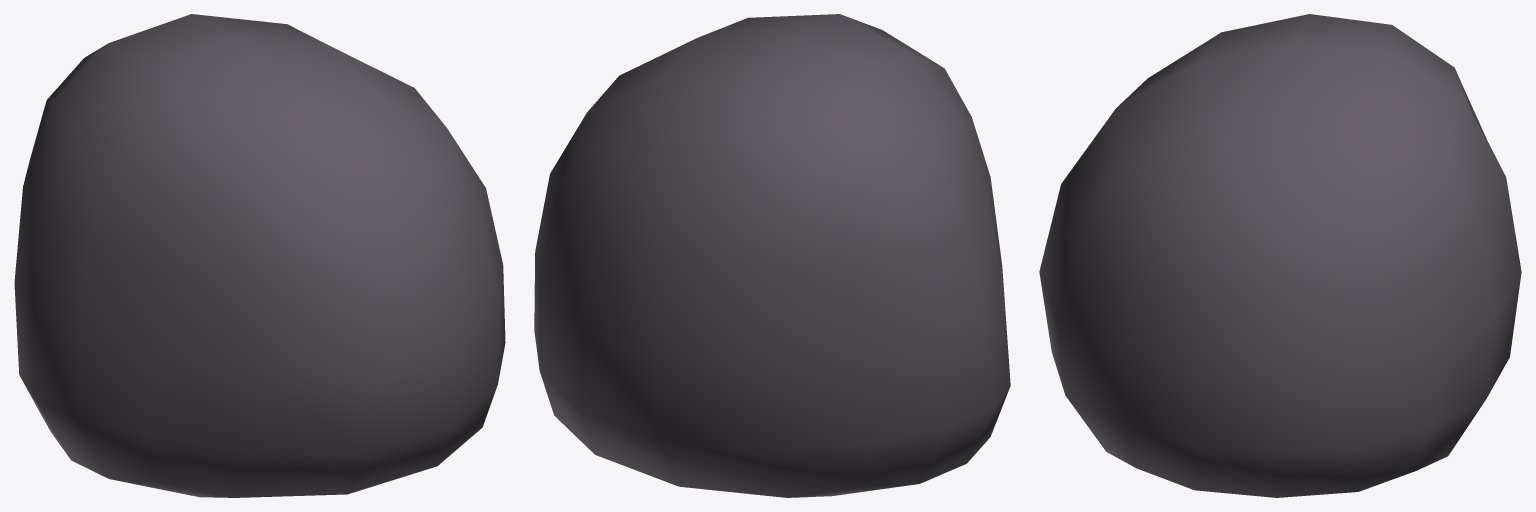
Rendered from MoonStone_2.fbx.
3 views of the same model, side by side, from view 1: azimuth 30°, elevation 25°; view 2: azimuth 150°, elevation 25°; view 3: azimuth 270°, elevation 25° (orthographic). The views are drawn at different scales.
Parts seen in each view (by area): view 1: Stone_2; view 2: Stone_2; view 3: Stone_2.
Boxes of the visible parts, <box> form: Stone_2: <box>14,14,505,497</box>; Stone_2: <box>534,14,1010,497</box>; Stone_2: <box>1039,14,1521,497</box>.
Bounding box in the file's own units: 2.57 × 2.31 × 2.59.
